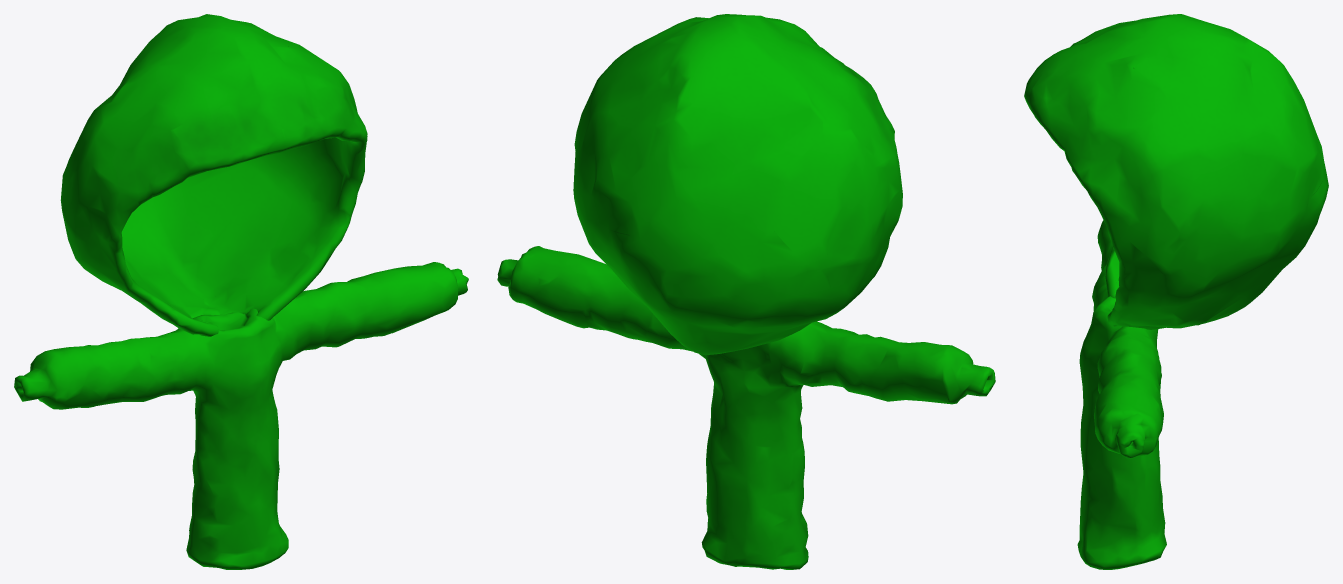
Rendered from hoodie green.glb.
3 views of the same model, side by side, from view 1: azimuth 30°, elevation 25°; view 2: azimuth 150°, elevation 25°; view 3: azimuth 270°, elevation 25° (orthographic). The views are drawn at different scales.
Visible parts, largest first — view 1: shirt_hoodie_up_green.001; view 2: shirt_hoodie_up_green.001; view 3: shirt_hoodie_up_green.001.
Boxes of the visible parts, bbox=[...] form: shirt_hoodie_up_green.001: bbox=[14, 14, 468, 569]; shirt_hoodie_up_green.001: bbox=[497, 14, 995, 569]; shirt_hoodie_up_green.001: bbox=[1024, 14, 1328, 569].
Size of the model in its own units: 0.7063 by 0.7668 by 0.3932.
Materials: 2 (2 with a texture image).
